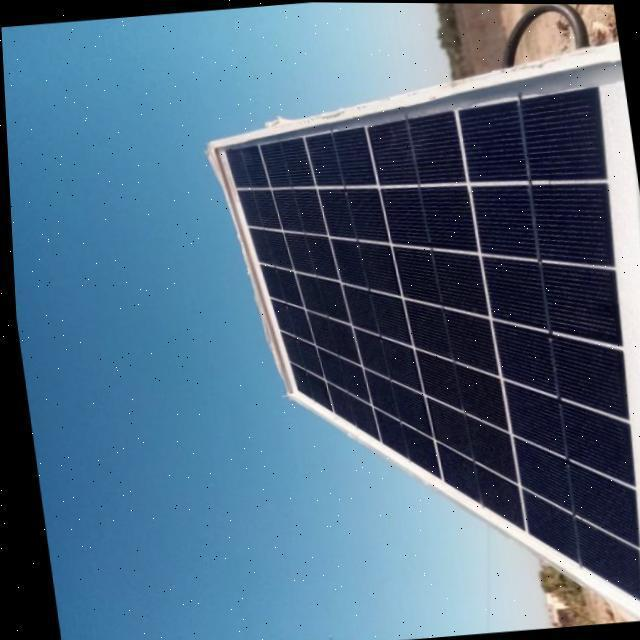Normal Solar Panel: (200, 44, 640, 640)
